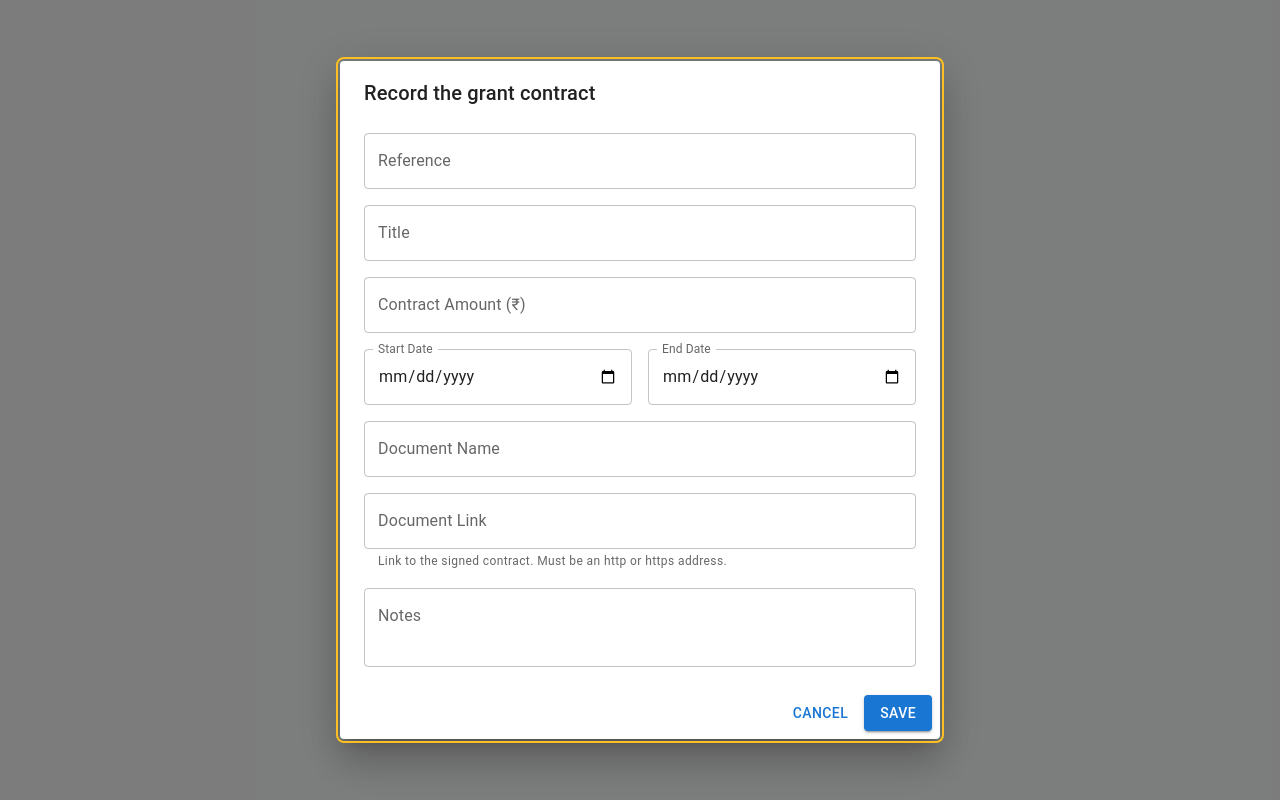
it: a negative amount is named and not saved
This screenshot has width=1280, height=800.
Type "WO-1" into the field labelled "Reference".
click(640, 161); type("WO-1")  # box left=364, top=133, right=916, bottom=189
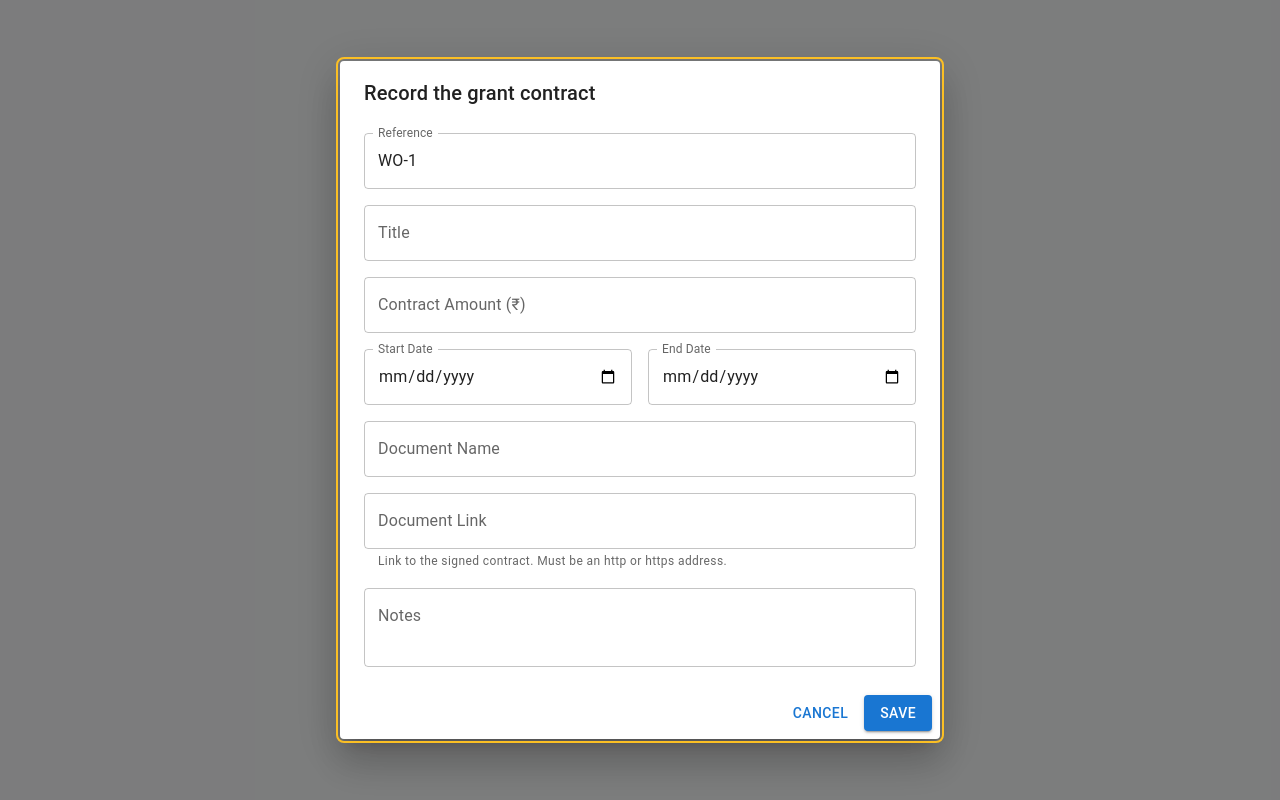
Type "-100" into the number field labelled "Contract Amount (₹)".
click(640, 305); type("-100")  # box left=364, top=277, right=916, bottom=333
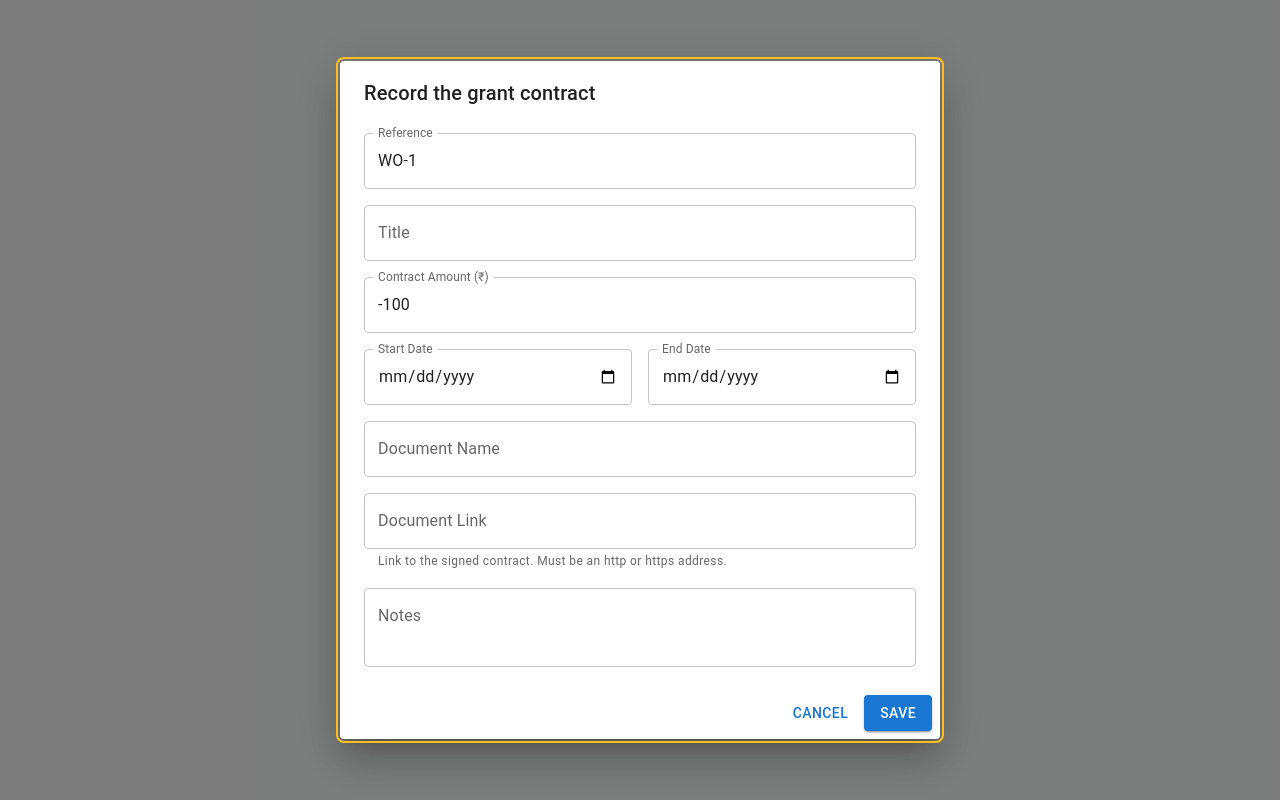
Click the button "Save".
click(898, 713)  # box left=864, top=695, right=932, bottom=731
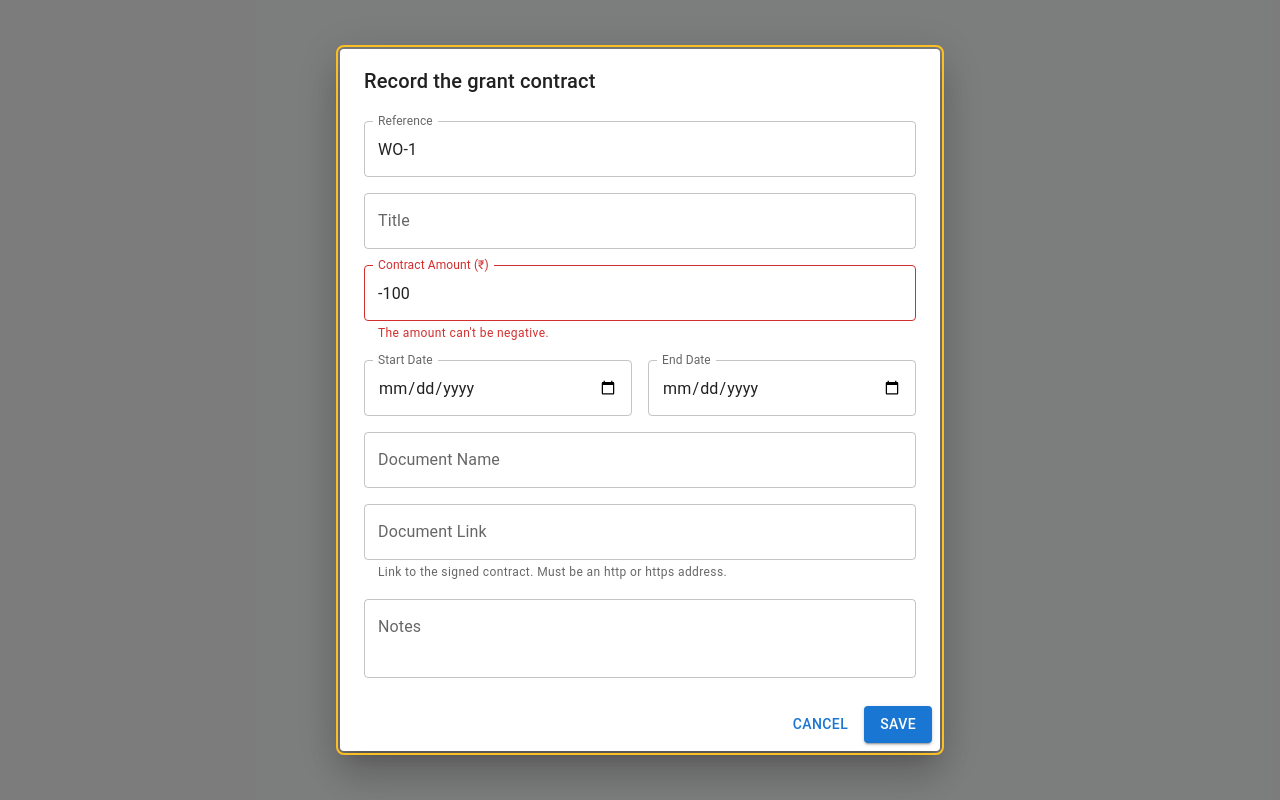
Now the text "The amount can't be negative." is shown, box left=378, top=326, right=549, bottom=340
